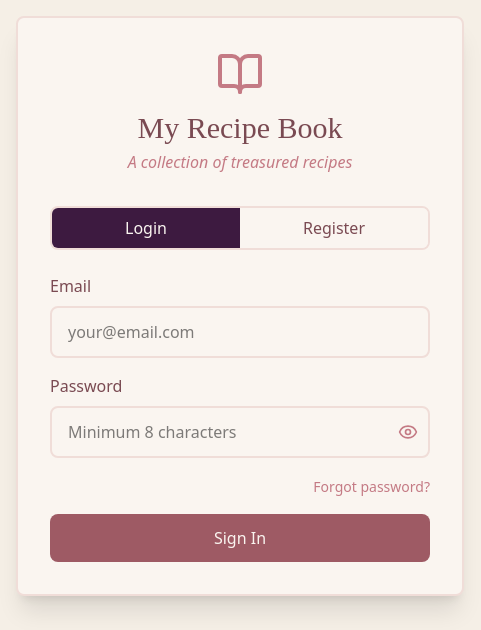
it: login/register toggle › should switch back to login mode when Login is clicked
Click the button "Register": x=334, y=228 [240,208,428,248]
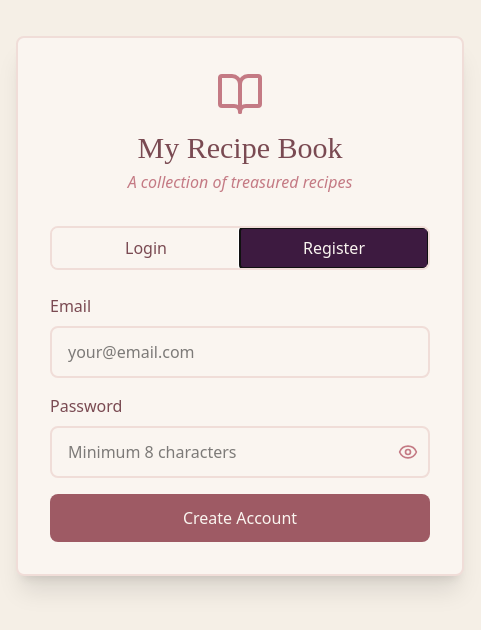
Click the button "Login": x=146, y=248 [52,228,240,268]
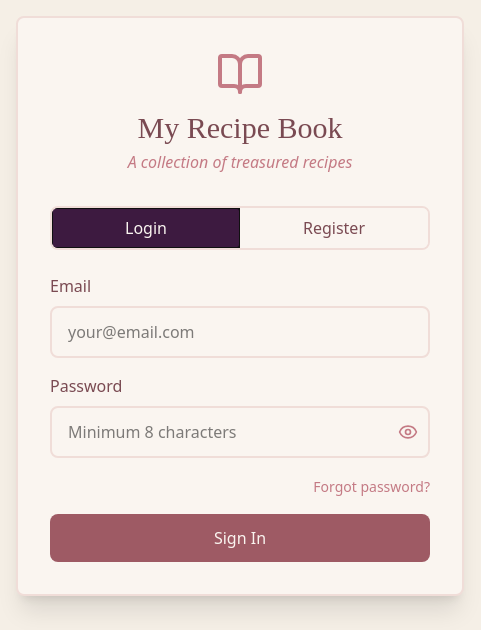
expect the button "Create Account" is gone: met
